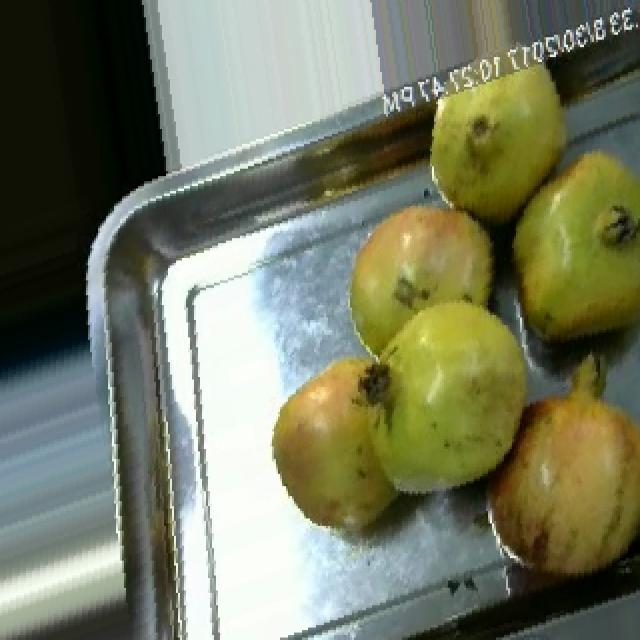fruit: (452, 350, 640, 610), (244, 325, 428, 563), (318, 174, 514, 382), (482, 126, 640, 374), (408, 42, 590, 241)
